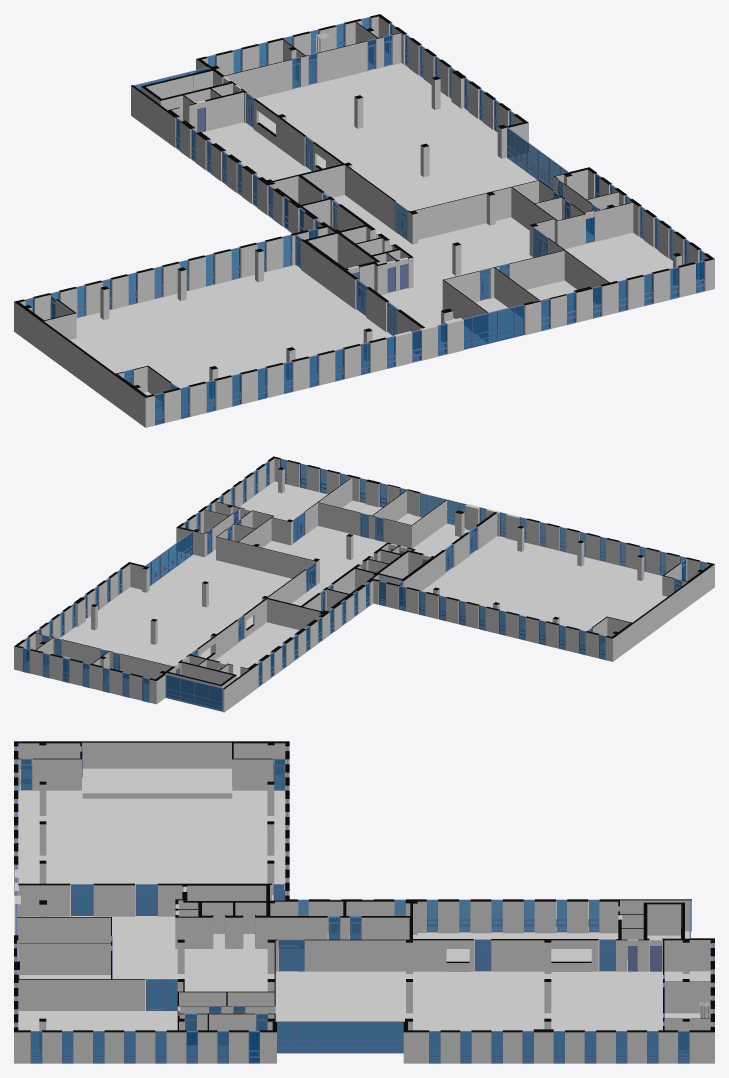
3 renders of one model, top to bottom at view 1: azimuth 30°, elevation 25°; view 2: azimuth 150°, elevation 25°; view 3: azimuth 270°, elevation 25°, orthographic. The views are drawn at different scales.
Visible parts, largest first — view 1: Line205, Line238, 4F, Box438, Box415, Box442, Box444, Box414, Line206, Box441, Box450, Box443 (+3 smaller); view 2: Line205, Line238, 4F, Box442, Box450, Box438, Box415, Box441, Box444, Box414, Line206, Box449 (+4 smaller); view 3: Line205, Line238, 4F, Line206, Box448, Box446, Box447, Box445, Box452, Box454, Box459, Box451 (+2 smaller).
Part boxes in pixels (x1,y1,x2,y2): Line205: (14, 14, 714, 427); Line238: (76, 51, 702, 423); 4F: (50, 34, 599, 389); Box438: (387, 305, 523, 367); Box415: (155, 343, 369, 424); Box442: (25, 230, 316, 316); Box444: (541, 262, 703, 329); Box414: (154, 323, 447, 425); Line206: (70, 334, 161, 422); Box441: (24, 228, 317, 317); Box450: (208, 18, 369, 73); Box443: (540, 260, 704, 331); Line205: (14, 456, 714, 712); Line238: (24, 481, 662, 710); 4F: (42, 493, 686, 711); Box442: (379, 582, 605, 659); Box450: (23, 649, 149, 701); Box438: (420, 494, 526, 541); Box415: (540, 523, 705, 579); Box441: (379, 581, 606, 659); Box444: (280, 459, 405, 506); Box414: (479, 507, 706, 576); Line206: (615, 587, 678, 622); Box449: (22, 648, 149, 702); Line205: (14, 741, 714, 1063); Line238: (18, 775, 710, 1061); 4F: (14, 746, 690, 1062); Line206: (20, 768, 232, 798); Box448: (429, 1032, 688, 1062); Box446: (31, 1032, 259, 1062); Box447: (429, 1031, 689, 1063); Box445: (30, 1031, 259, 1063); Box452: (298, 901, 502, 931); Box454: (524, 901, 598, 931); Box459: (71, 885, 93, 914); Box451: (298, 899, 502, 932).
Size of the model in its own units: 59.7 by 3.06 by 60.8.
